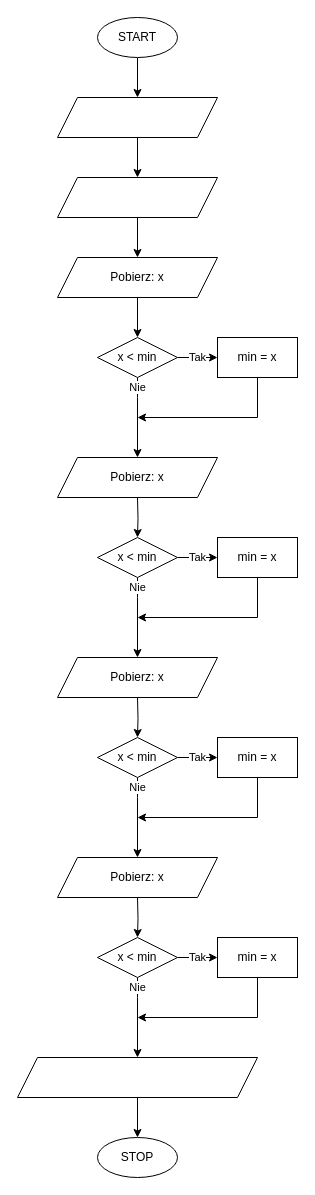
The diagram is 315 pixels wide and 1195 high, and some of its shapes have lost their labels. Here are the shapes that lost their labels. From the top down, the box of each, then its label:
(56, 96, 218, 138): Pisz: "Podaj 5 liczb:"
(56, 176, 218, 218): Pobierz: min
(16, 1056, 258, 1098): Pisz: "Minimalna: " + min
